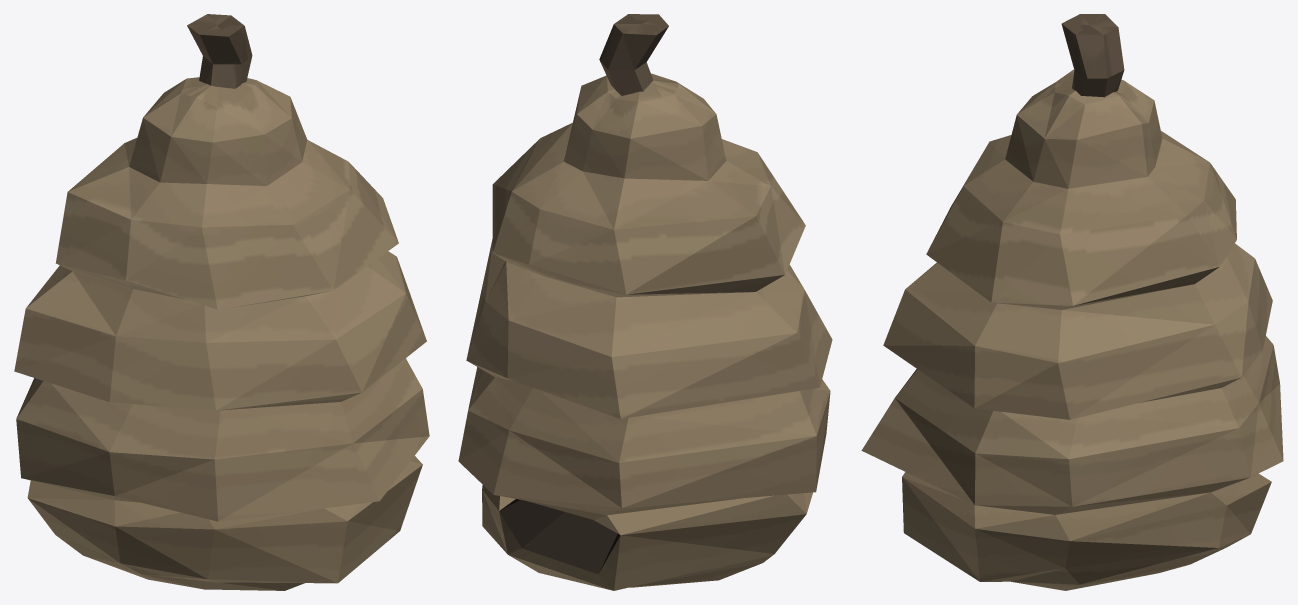
The model's file is beehive1.fbx.
3 renders of one model, left to right at view 1: azimuth 30°, elevation 25°; view 2: azimuth 150°, elevation 25°; view 3: azimuth 270°, elevation 25°, orthographic.
Visible parts, largest first — view 1: beehive1; view 2: beehive1; view 3: beehive1.
Part boxes in pixels (x1=…): beehive1: x1=14, y1=14, x2=429, y2=590; beehive1: x1=458, y1=14, x2=832, y2=590; beehive1: x1=861, y1=14, x2=1283, y2=590.
Bounding box in the file's own units: 30.43 × 45 × 30.93.
